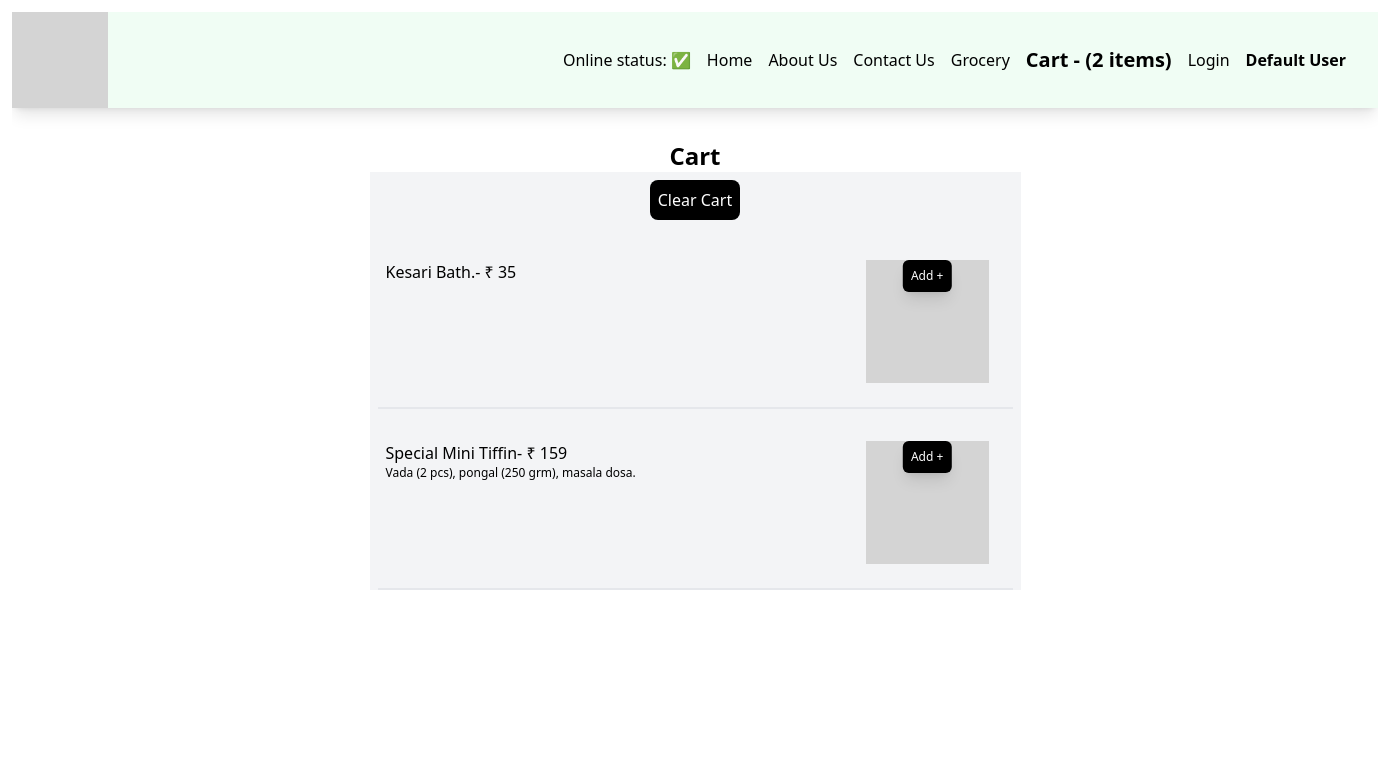
Should clear cart after clear button clicked
What coordinates should you click on to do the following:
click the button "Clear Cart"
I would click on:
 (695, 200)
Its box is [650,180,740,220].
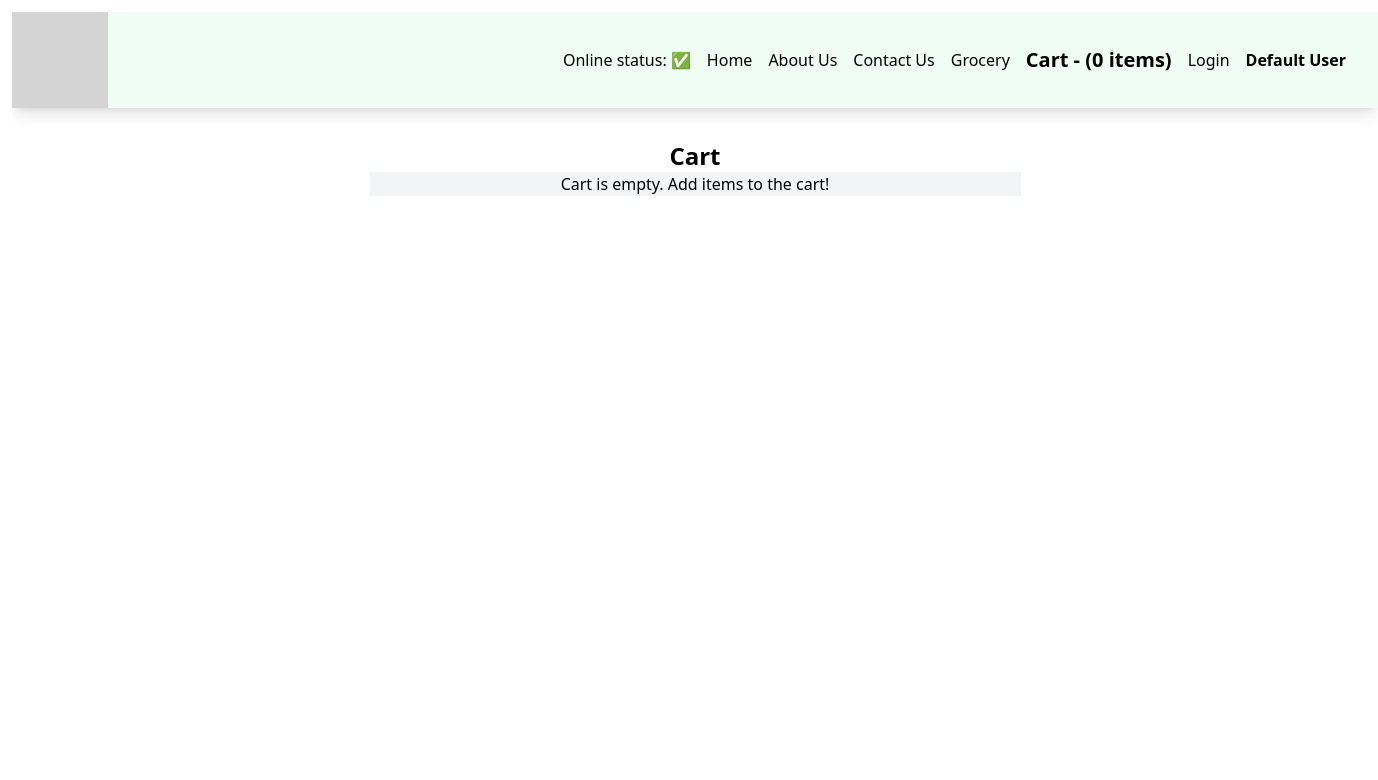
Expected: the heading "Cart is empty. Add items to the cart!" is shown, [561,173,829,195]
